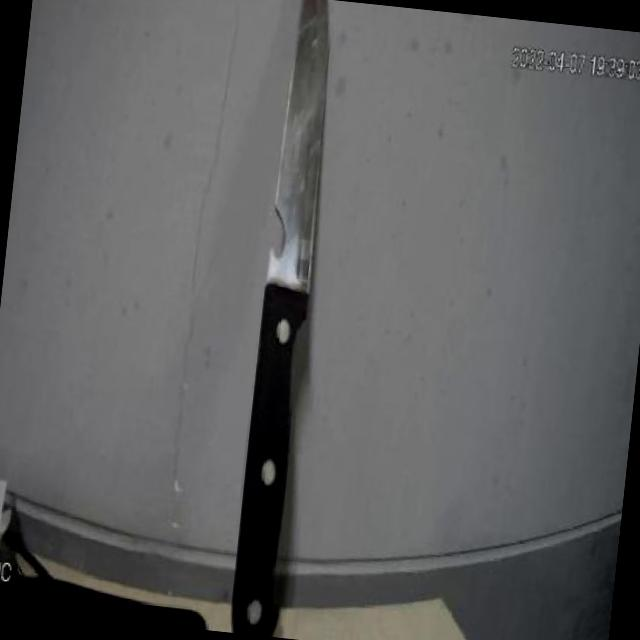knife: (213, 0, 368, 638)
